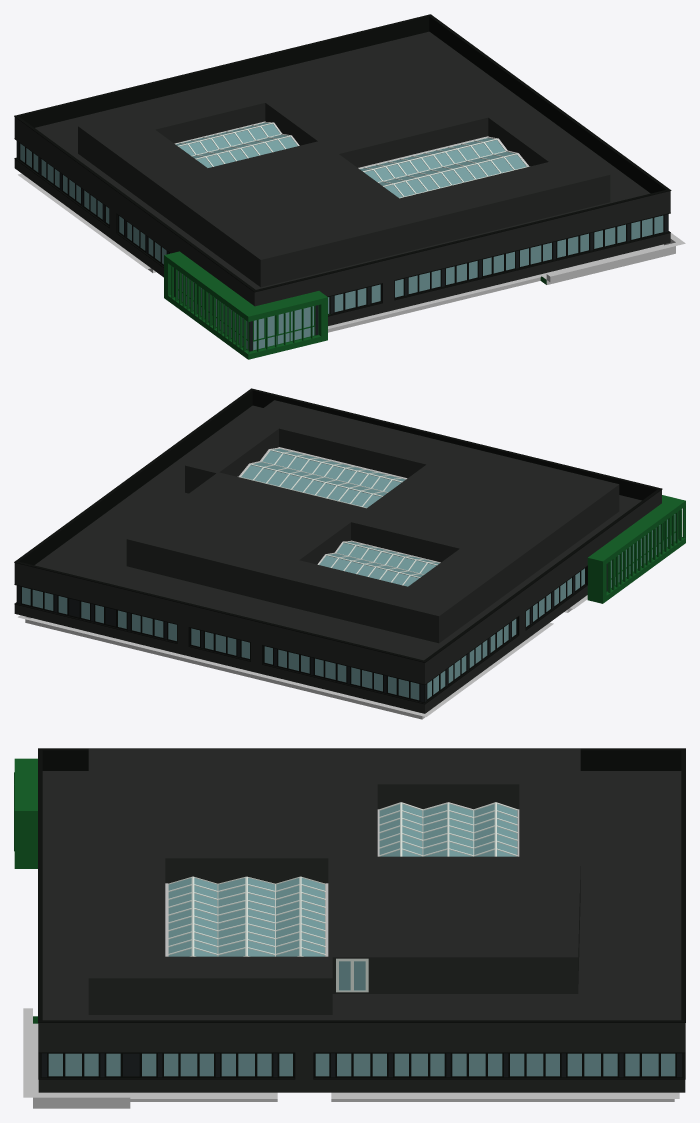
The picture shows the model from 3 angles, top to bottom: view 1: azimuth 30°, elevation 25°; view 2: azimuth 150°, elevation 25°; view 3: azimuth 270°, elevation 25°; orthographic projection. The views are drawn at different scales.
Visible parts, largest first — view 1: LEVEL5_FACADE_30, LEVEL5_FACADE_28, LEVEL5_GLASS_00, LEVEL5_FLOOR_CEILING_01, LEVEL5_FACADE_34; view 2: LEVEL5_FACADE_30, LEVEL5_FACADE_28, LEVEL5_GLASS_00, LEVEL5_FLOOR_CEILING_01, LEVEL5_FACADE_34; view 3: LEVEL5_FACADE_30, LEVEL5_FACADE_28, LEVEL5_GLASS_00, LEVEL5_FLOOR_CEILING_01, LEVEL5_FACADE_34, LEVEL5_FLOOR_CEILING_00.
Part boxes in pixels (x1,y1,x2,y2): LEVEL5_FACADE_30: [35, 31, 650, 289]; LEVEL5_FACADE_28: [14, 14, 671, 359]; LEVEL5_GLASS_00: [20, 122, 663, 350]; LEVEL5_FLOOR_CEILING_01: [18, 173, 685, 332]; LEVEL5_FACADE_34: [175, 122, 528, 198]; LEVEL5_FACADE_30: [34, 400, 641, 660]; LEVEL5_FACADE_28: [14, 388, 685, 713]; LEVEL5_GLASS_00: [22, 449, 675, 700]; LEVEL5_FLOOR_CEILING_01: [18, 595, 587, 719]; LEVEL5_FACADE_34: [239, 448, 439, 585]; LEVEL5_FACADE_30: [42, 748, 681, 1020]; LEVEL5_FACADE_28: [14, 748, 685, 1092]; LEVEL5_GLASS_00: [48, 804, 675, 1076]; LEVEL5_FLOOR_CEILING_01: [23, 1008, 679, 1108]; LEVEL5_FACADE_34: [168, 802, 517, 956]; LEVEL5_FLOOR_CEILING_00: [165, 802, 519, 956].
Bounding box in the file's own units: 42.84 × 6.94 × 41.95.
